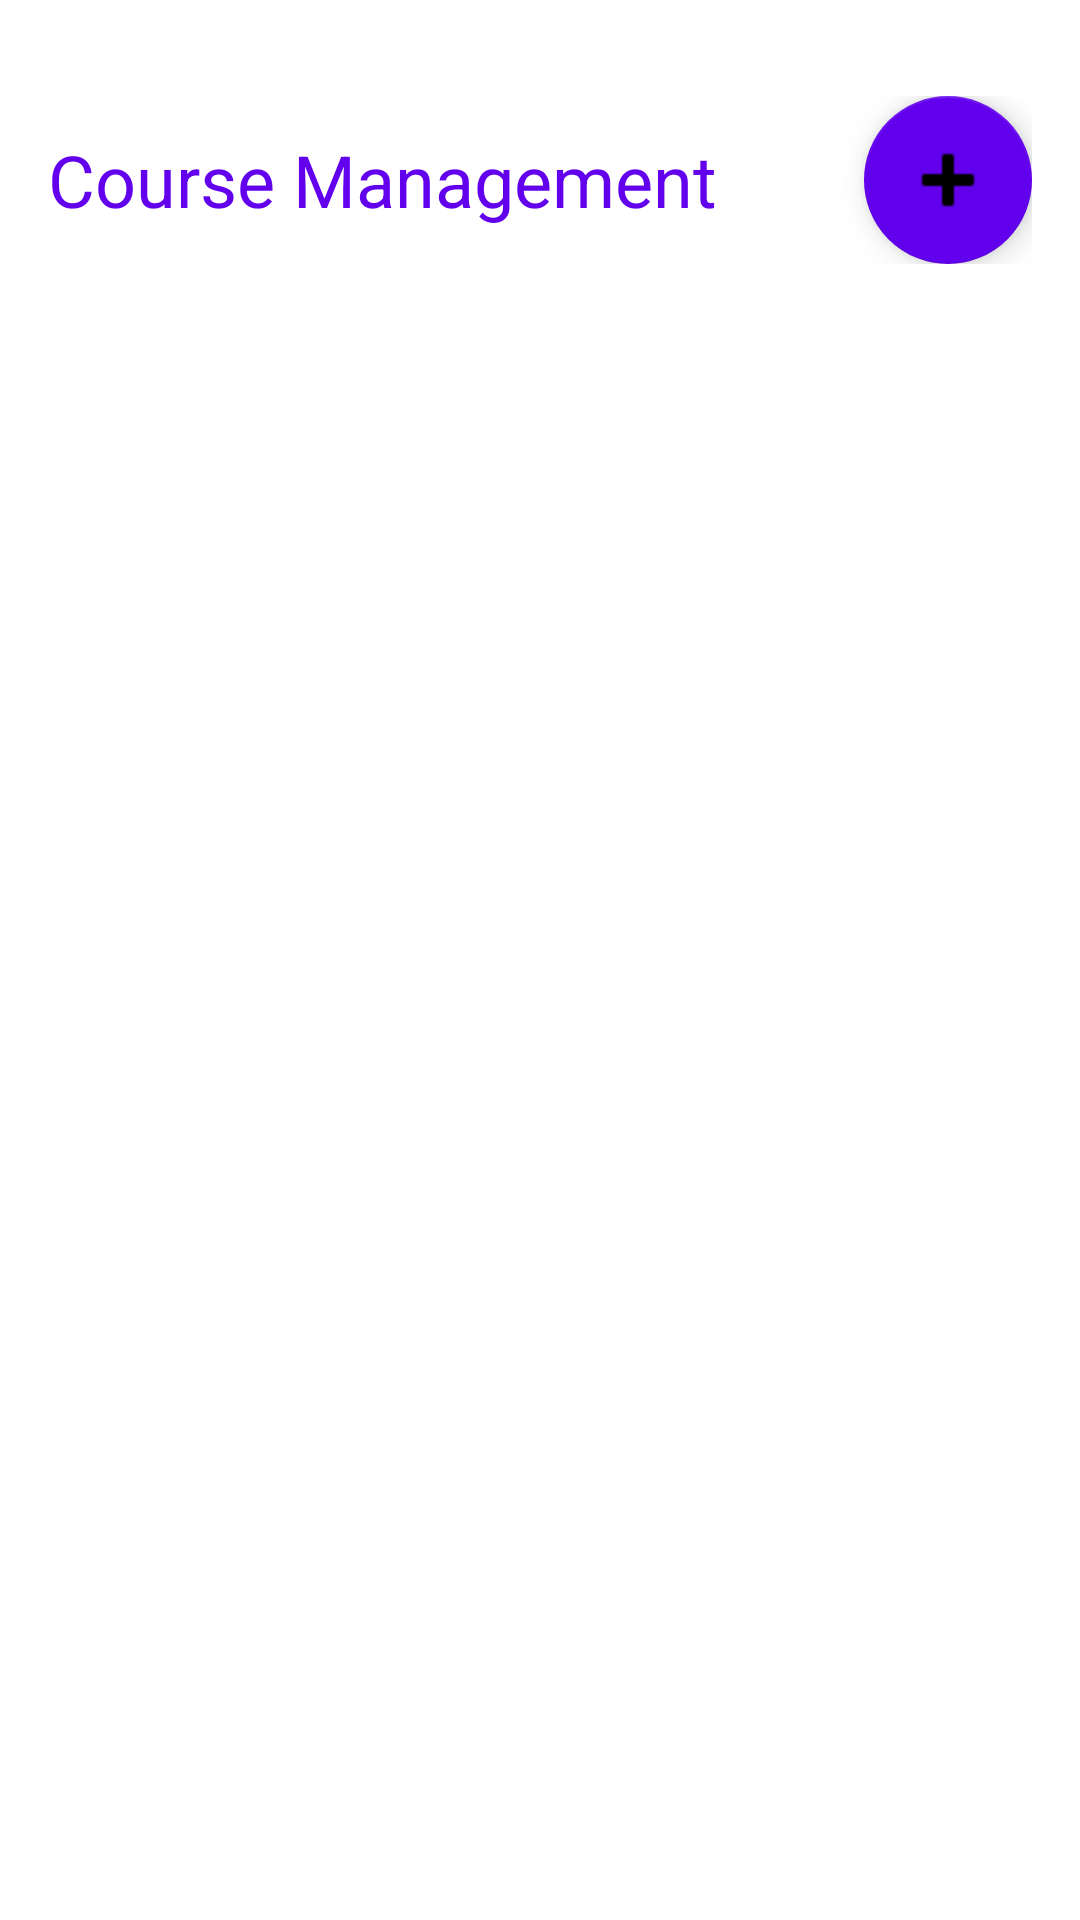

Named icons in this screenshot (1080×1920) and their bounding boxes, [left=x1, top=y1, right=x2, bottom=y2]:
Add Course: [left=864, top=96, right=1032, bottom=264]
